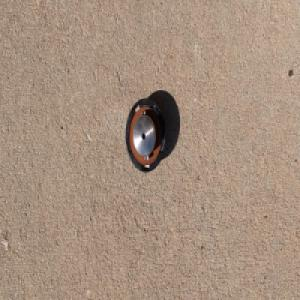FuelCap: (124, 96, 167, 174)
